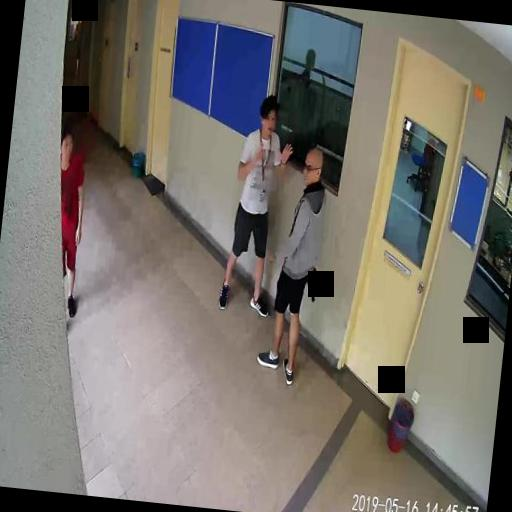Handgun: (303, 266, 317, 302)
